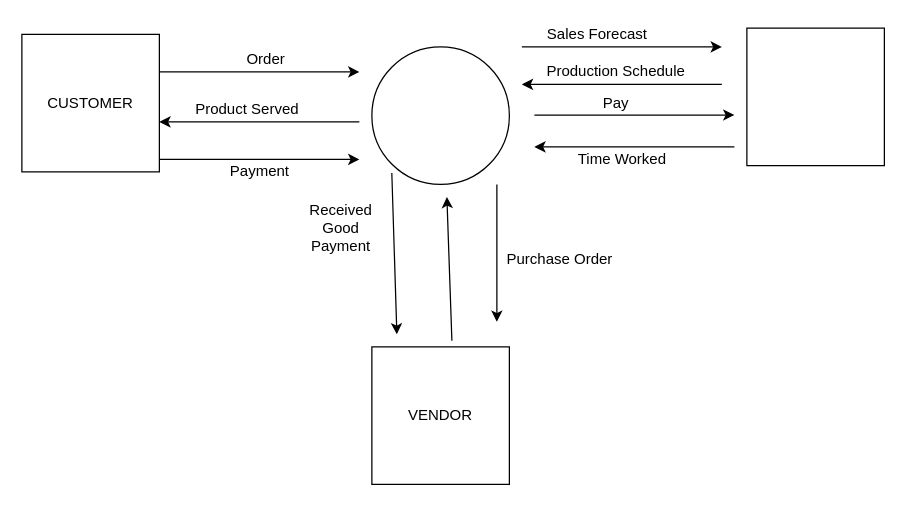
Image size: 906x506. Some labels were removed from this diagram. Each missing label, with the box of its shape:
EMPLOYEE: (746, 27, 884, 166)
Lemonade System: (371, 46, 509, 184)
